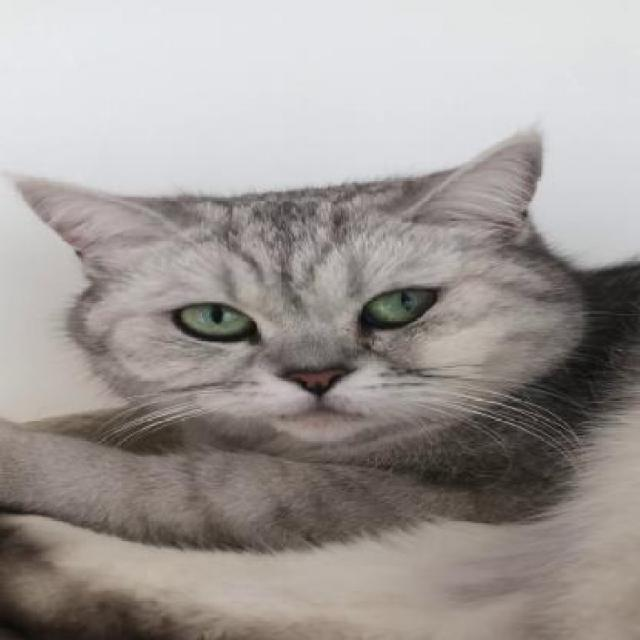cat-face: (4, 153, 593, 446)
